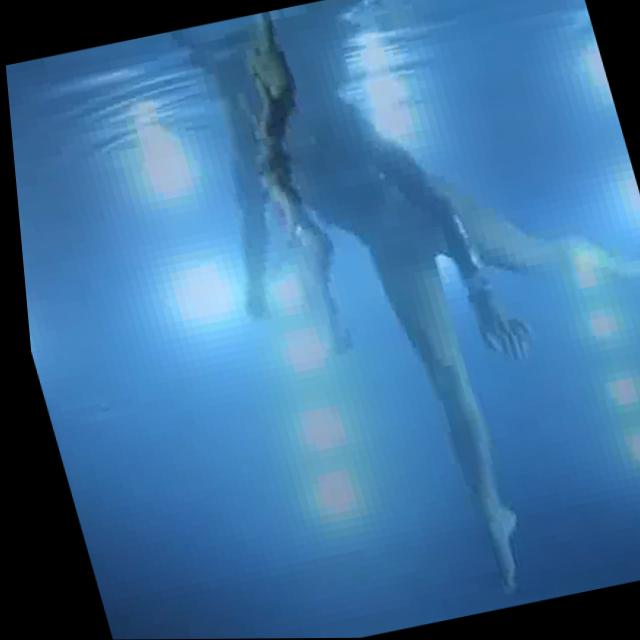human: (75, 0, 640, 640)
